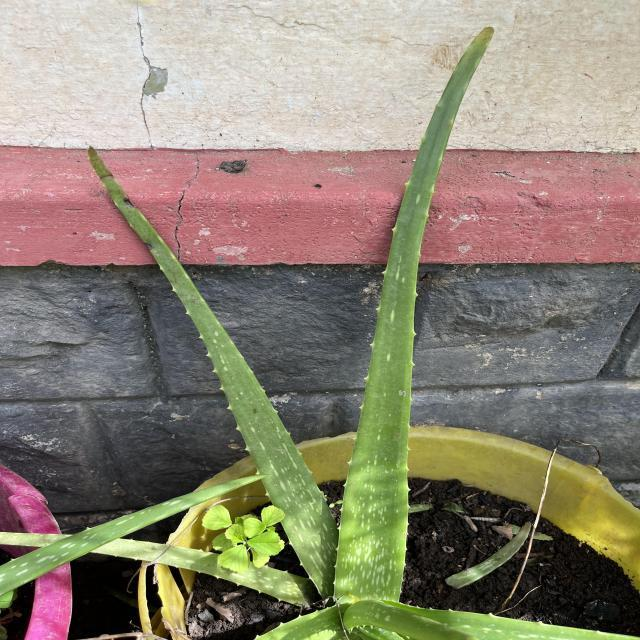Aloe vera: (85, 143, 342, 612), (337, 24, 499, 618)
